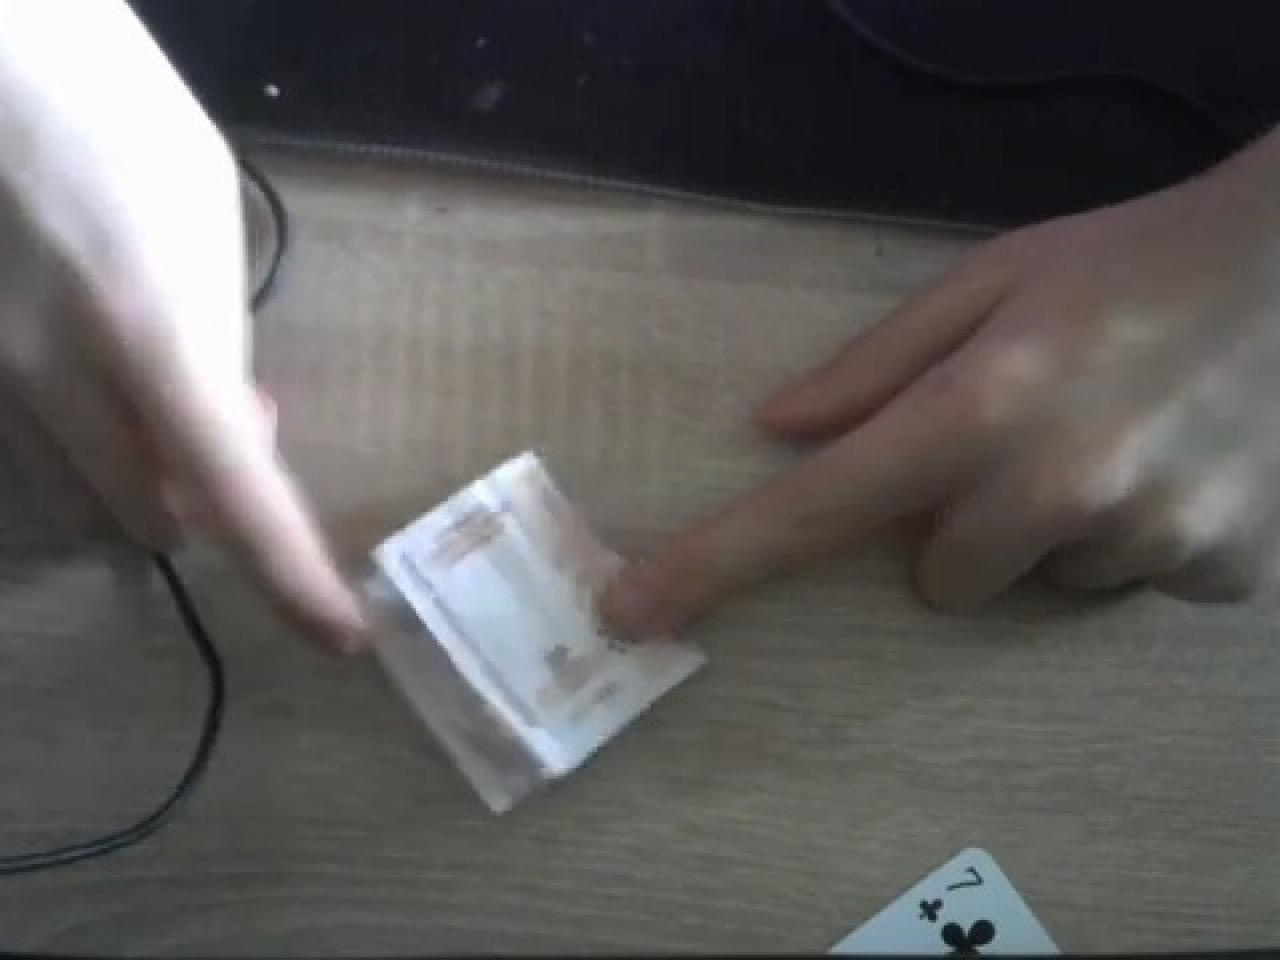5leva: (368, 451, 707, 819)
